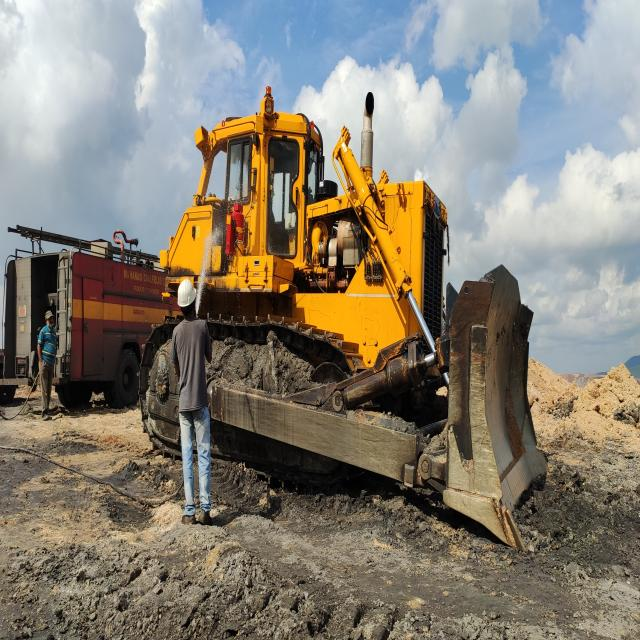buldozerpayloadergrader: (160, 89, 546, 549)
